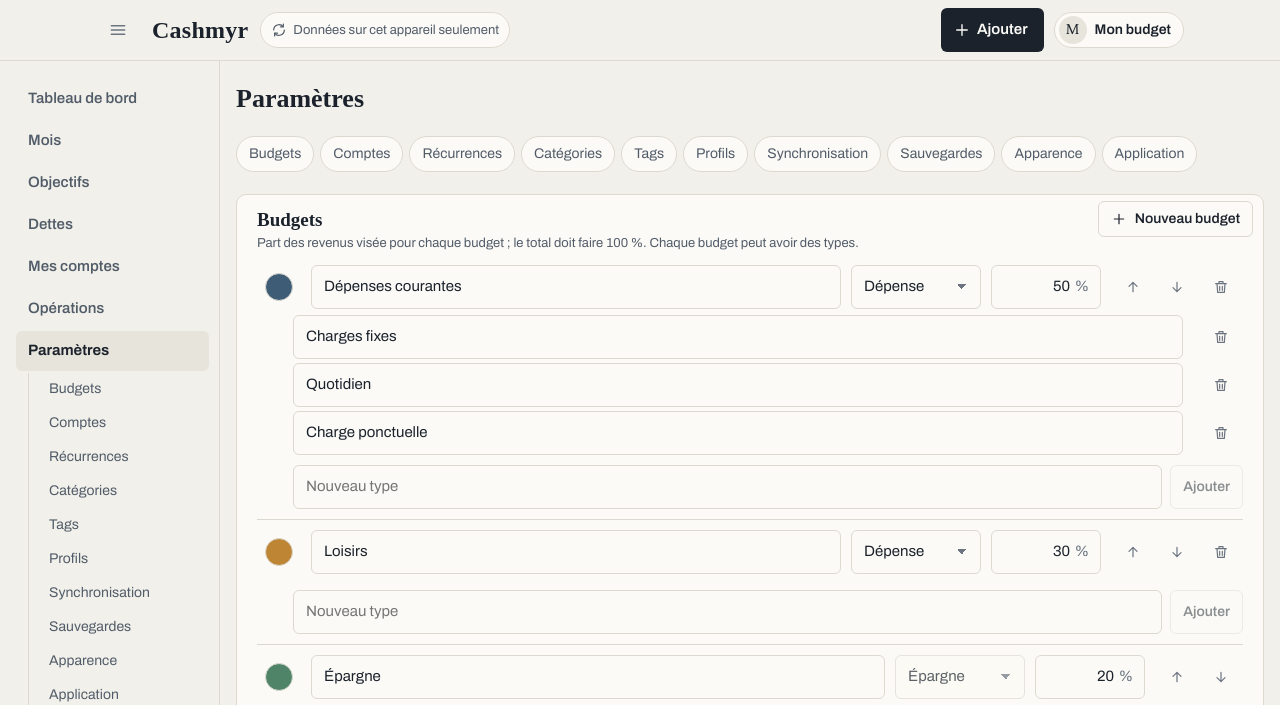
Test: Paramètres → Profils › en-tête, un seul profil : son nom, et « Nouveau profil… » dans le menu (décision 63)
Click the button with aria-label "Profil « Mon budget ». Changer de profil". click: (1119, 30)
box: [1054,12,1184,48]
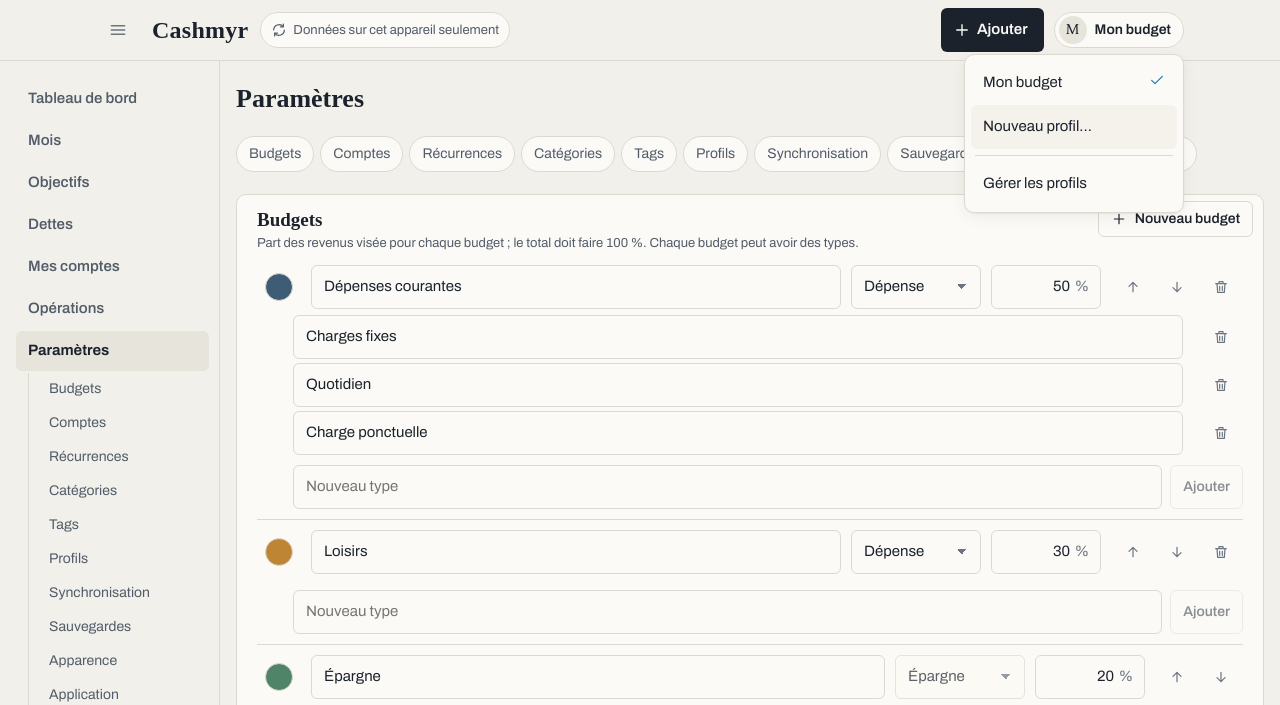
Click the menu item "Nouveau profil…". click: (1074, 127)
box: [971,105,1177,149]
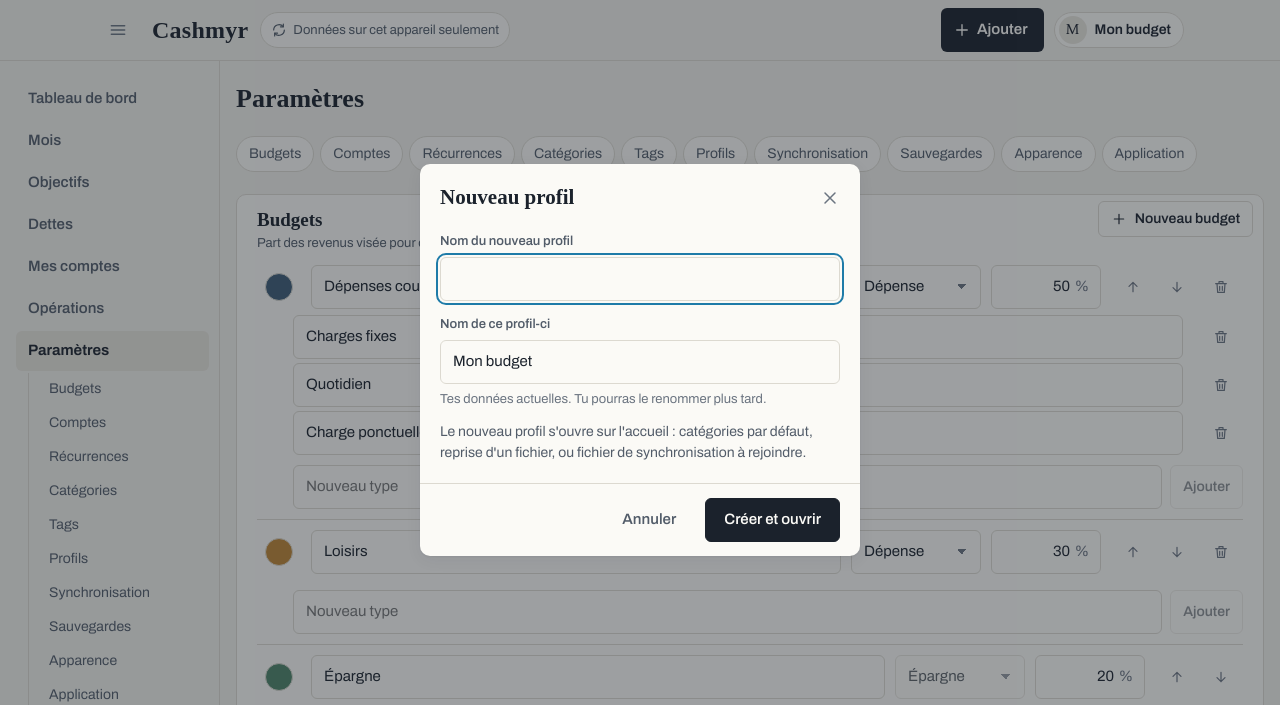
Check: the dialog "Nouveau profil" is shown, box [420,164,860,556]
